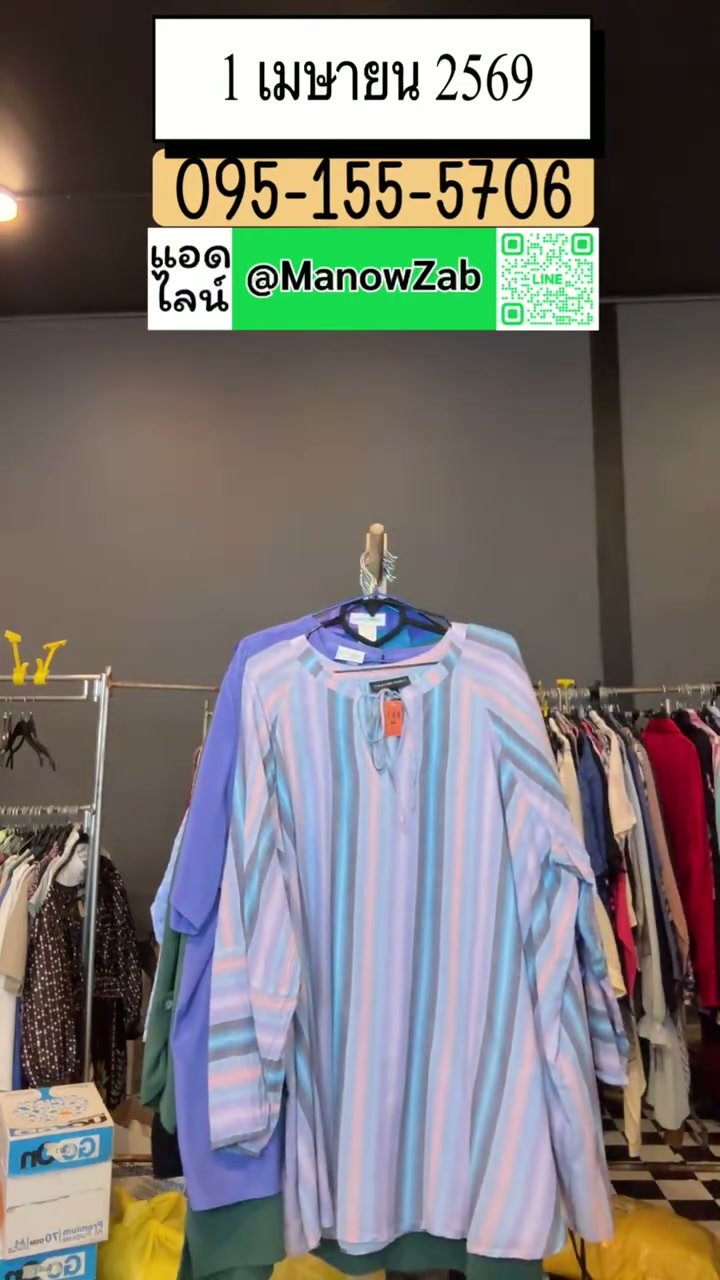display_shirt: (206, 623, 625, 1260)
